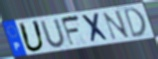D: (122, 6, 149, 40)
F: (59, 14, 82, 48)
N: (101, 9, 132, 41)
U: (17, 19, 46, 53), (39, 18, 68, 49)
X: (80, 12, 112, 45)
